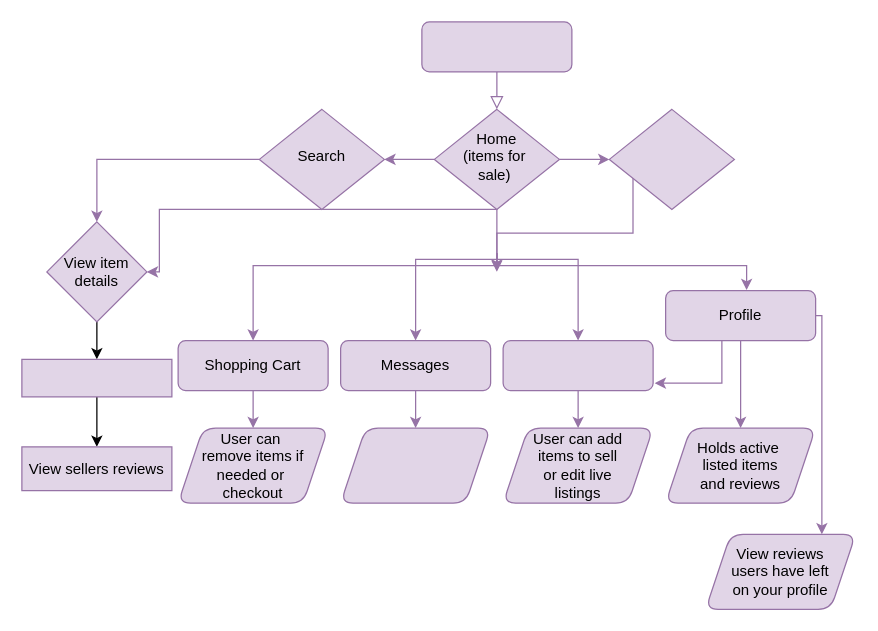
This 878x631 diagram has some shape labels left out. Each missing label, with the centre of its shape:
Add Item: [577,365]
Log In / Sign up: [496,46]
Menu: [671,158]
User can view read & unread messages, and send messages: [415,465]
View sellers profile: [96,377]
